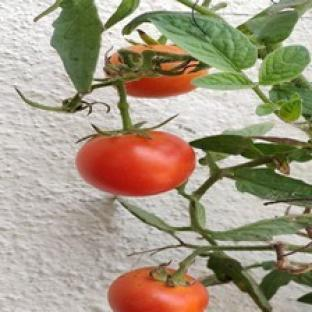Tomato: (77, 131, 194, 196), (108, 268, 208, 311), (126, 62, 207, 97)
